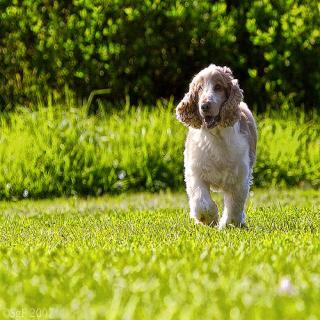dog: (172, 62, 244, 132)
nose: (200, 102, 210, 114)
